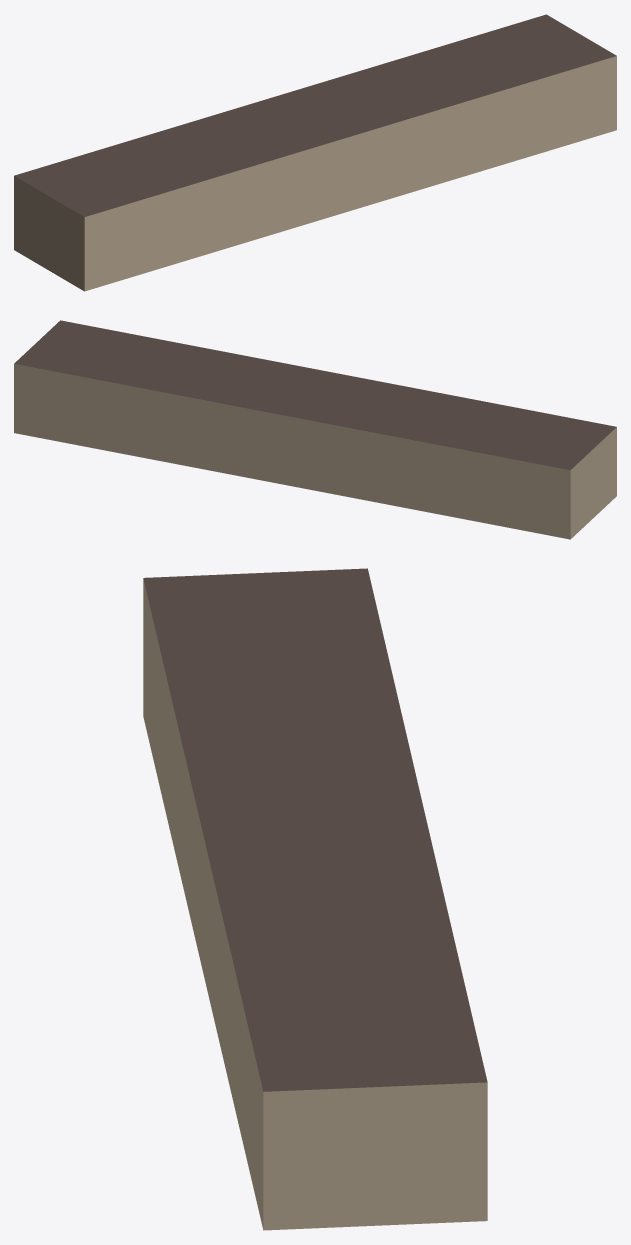
The picture shows the model from 3 angles, top to bottom: view 1: azimuth 30°, elevation 25°; view 2: azimuth 150°, elevation 25°; view 3: azimuth 270°, elevation 25°; orthographic projection. The views are drawn at different scales.
Parts seen in each view (by area): view 1: HP-w369317493; view 2: HP-w369317493; view 3: HP-w369317493.
Boxes of the visible parts, left/top/right/bottom form: HP-w369317493: left=14, top=14, right=616, bottom=291; HP-w369317493: left=14, top=320, right=616, bottom=539; HP-w369317493: left=143, top=568, right=487, bottom=1230.
Bounding box in the file's own units: 72.85 × 9 × 20.26.
